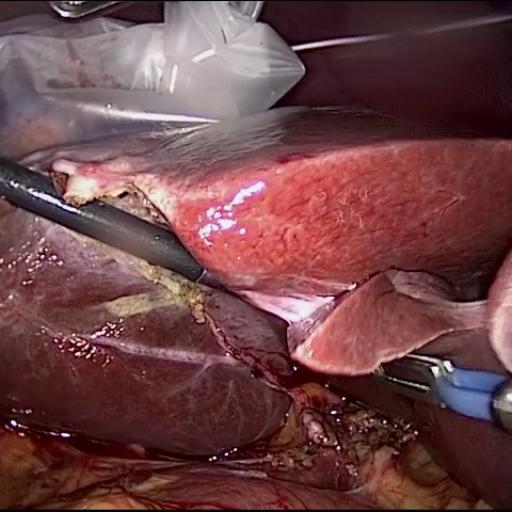Grasper: (166, 194, 408, 354), (338, 291, 509, 442), (39, 1, 177, 37)
